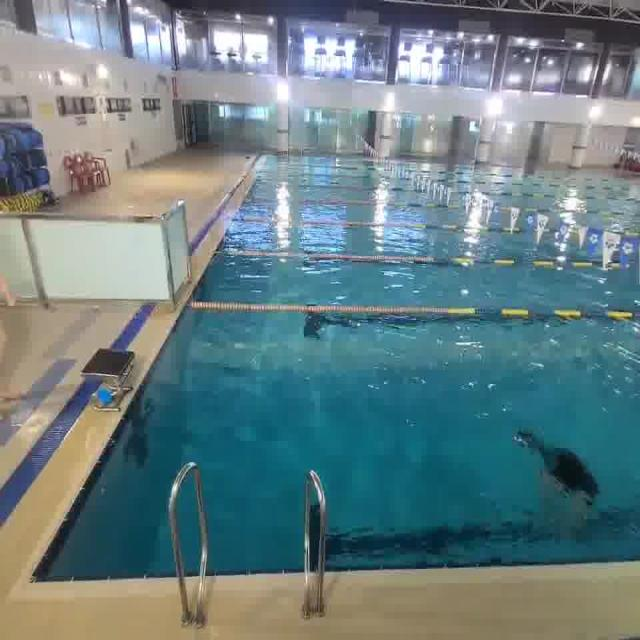Drowning: (504, 408, 618, 538)
